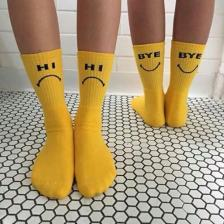yellow: (21, 49, 74, 199), (75, 51, 116, 197), (165, 40, 206, 127), (132, 42, 166, 127)
